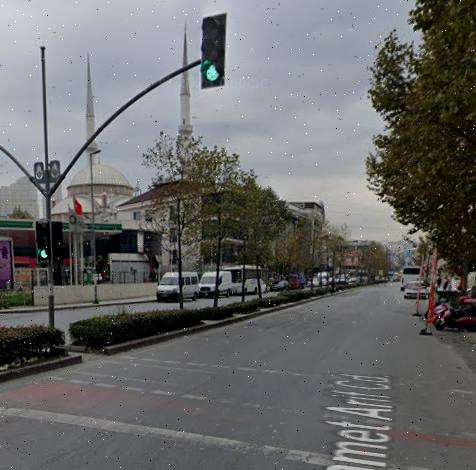greenlight: (201, 14, 225, 87), (35, 220, 51, 266)
